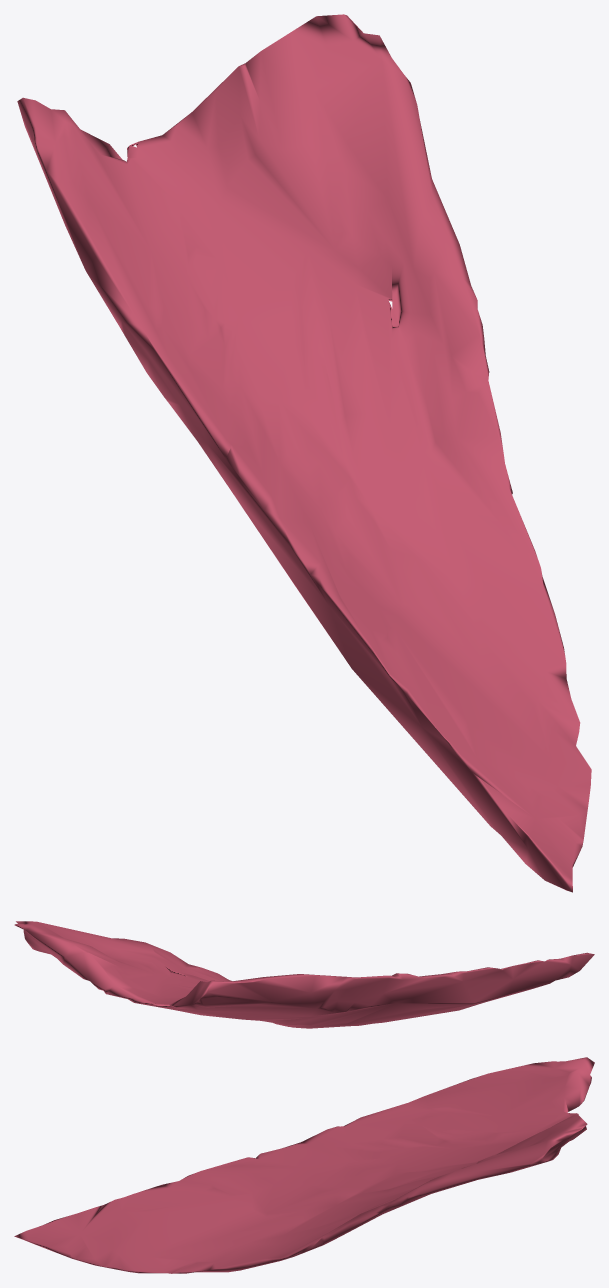
The picture shows the model from 3 angles, top to bottom: view 1: azimuth 30°, elevation 25°; view 2: azimuth 150°, elevation 25°; view 3: azimuth 270°, elevation 25°; orthographic projection. The views are drawn at different scales.
Parts seen in each view (by area): view 1: 左侧锥状肌; view 2: 左侧锥状肌; view 3: 左侧锥状肌.
Boxes of the visible parts, x1=… form: 左侧锥状肌: x1=17, y1=14, x2=591, y2=892; 左侧锥状肌: x1=14, y1=921, x2=594, y2=1028; 左侧锥状肌: x1=14, y1=1057, x2=594, y2=1273.
Size of the model in its own units: 0.0411 by 0.0397 by 0.1057.
